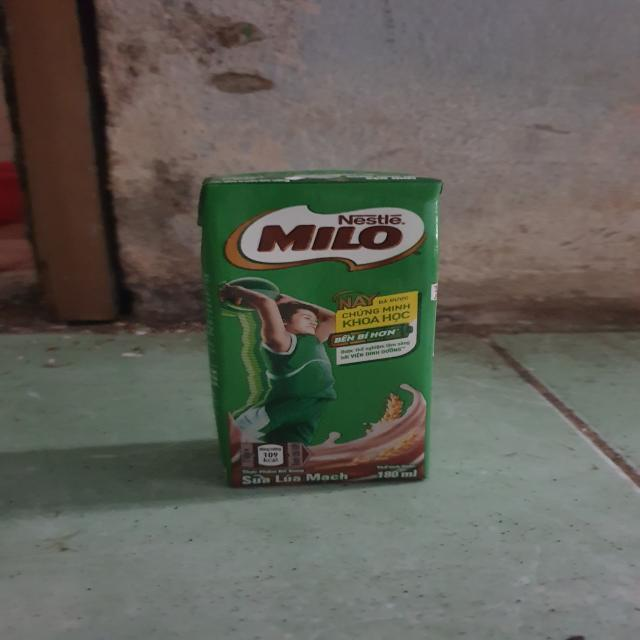Milo: (196, 171, 438, 495)
